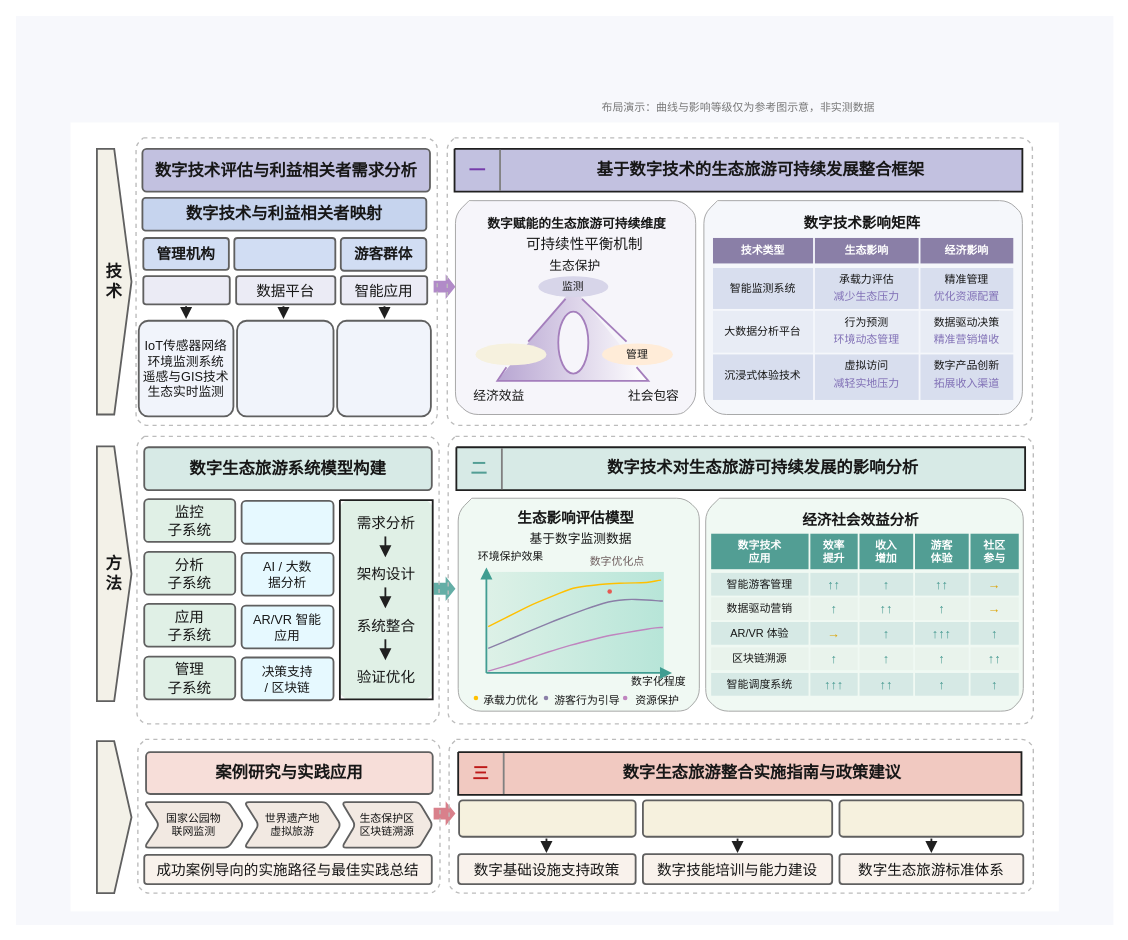
Some shapes in this 1128 by 940 pixel diagram are drawn without their labels. Each missing label, with the centre of its shape:
AR/VR体验应用 智能预约系统 个性化路线 规划 生态教育应用: [383,368]
云数据平台 游客流量分析 大数据决策支持 区块链溯源系统: [285,368]
传感网络 / 遥感: [287,522]
分析: [510,354]
实施阶段: [737,818]
应 用: [114,817]
数 字 整 合: [573,342]
数字生态旅游实施框架: [547,818]
旅游经营者: [284,253]
监测技术: [186,290]
经济 - 生态双赢发展: [931,818]
